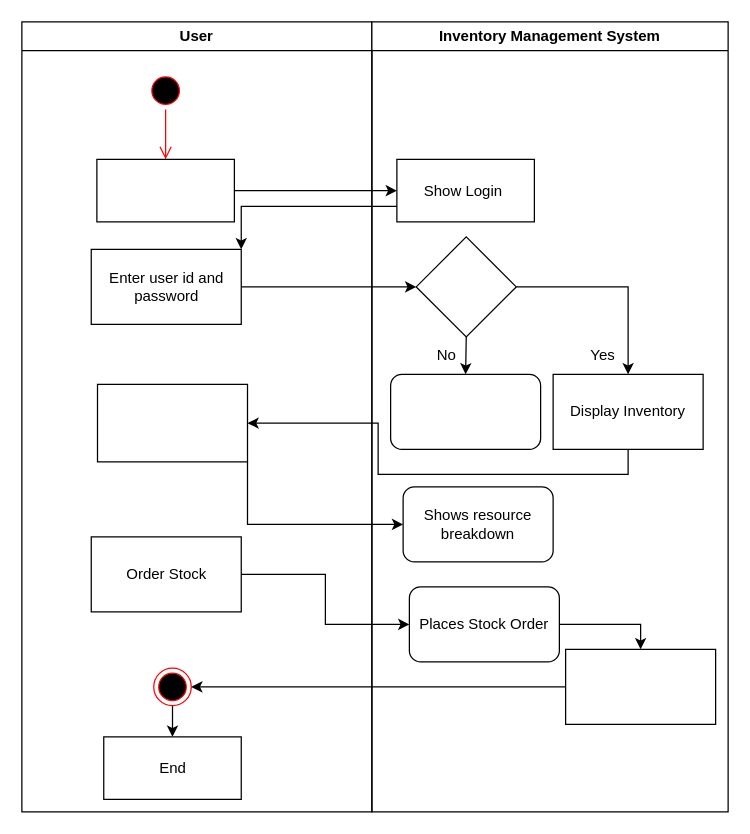
Image size: 750x834. Some labels were removed from this diagram. The shapes that lost their labels are listed below. From the top down, each one's box as (x1, y1, x2, y2) in pixels, then its label:
(96, 158, 234, 222): Start
(415, 236, 516, 337): Are details valid ?
(96, 383, 248, 462): Check Stock
(389, 373, 541, 449): Display "Incorrect Credentials"
(564, 648, 716, 724): Shows Updated Stock
